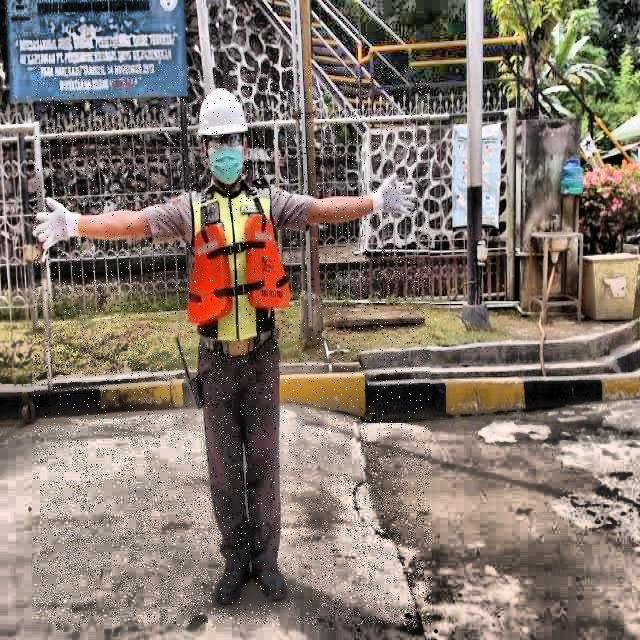safety_helmet: (192, 80, 254, 149)
safety_jacket: (178, 182, 297, 345)
